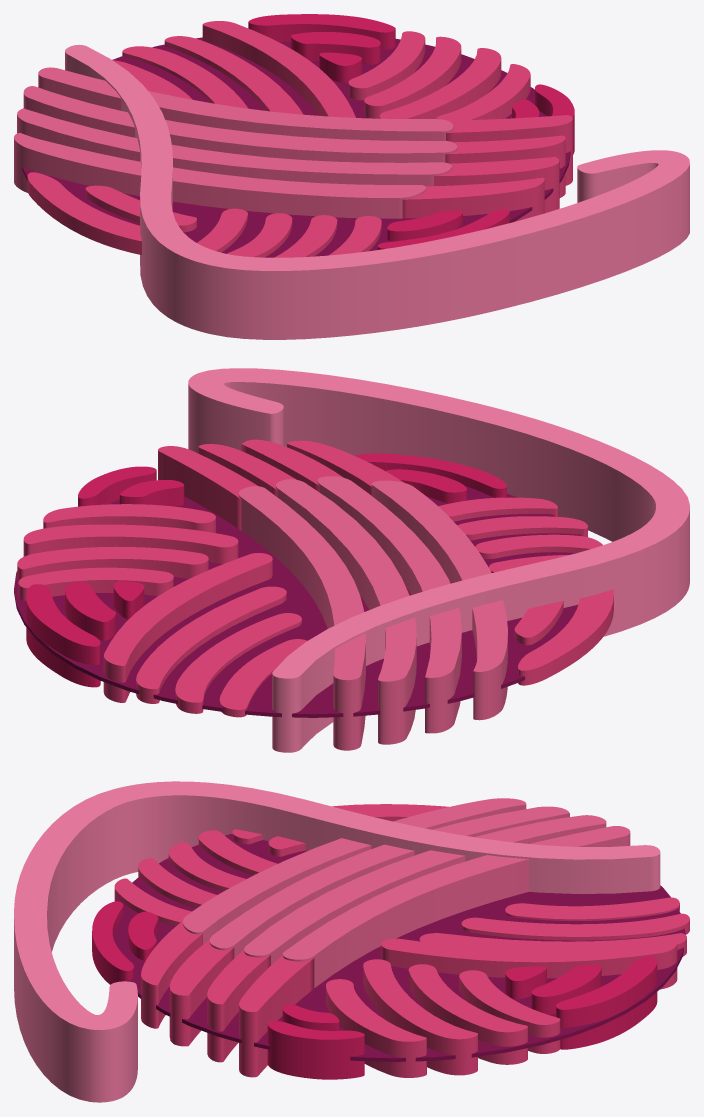
Rendered from emoji_u1f9f6.glb.
The picture shows the model from 3 angles, top to bottom: view 1: azimuth 30°, elevation 25°; view 2: azimuth 150°, elevation 25°; view 3: azimuth 270°, elevation 25°; orthographic projection. The views are drawn at different scales.
Visible parts, largest first — view 1: emoji_u1f9f6; view 2: emoji_u1f9f6; view 3: emoji_u1f9f6.
Boxes of the visible parts, bbox=[...] form: emoji_u1f9f6: bbox=[14, 14, 689, 339]; emoji_u1f9f6: bbox=[14, 368, 689, 752]; emoji_u1f9f6: bbox=[14, 781, 689, 1102].
Bounding box in the file's own units: 0.0302 × 0.004 × 0.0338.
